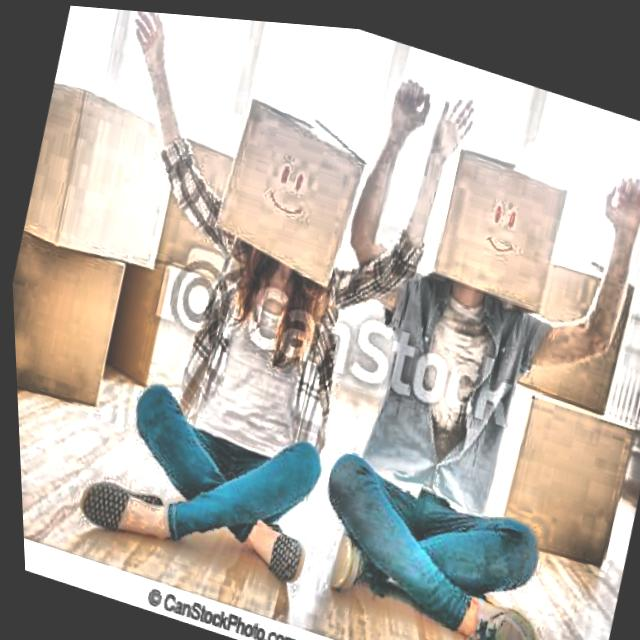Cardbox: (8, 63, 200, 304), (193, 75, 381, 310), (456, 348, 640, 578), (453, 200, 640, 408), (400, 115, 589, 320), (83, 223, 261, 423), (127, 113, 303, 292), (8, 226, 139, 424)
